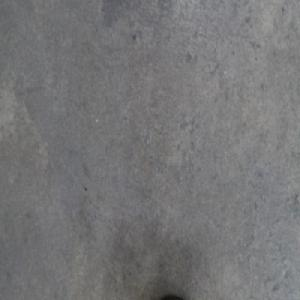AdjustableWrench: (154, 286, 190, 298)
